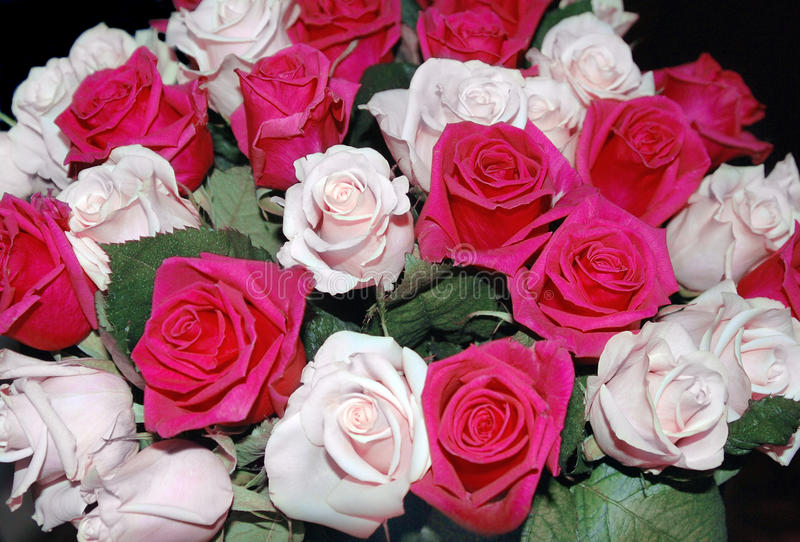RedRose: (131, 240, 313, 435), (401, 319, 569, 527), (514, 197, 674, 353), (58, 39, 217, 190), (420, 115, 569, 270), (569, 92, 709, 235), (228, 50, 364, 190), (0, 185, 97, 355), (654, 55, 772, 170), (418, 0, 544, 78), (275, 0, 408, 68), (741, 220, 800, 323)
